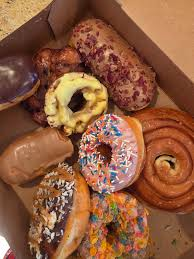Donut: (30, 160, 94, 259), (79, 111, 147, 193), (80, 187, 153, 259), (42, 70, 112, 140)
